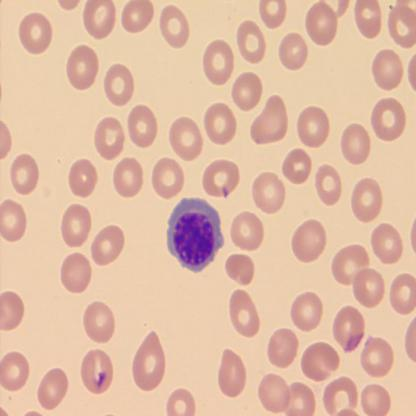NRC: (164, 195, 226, 275)
